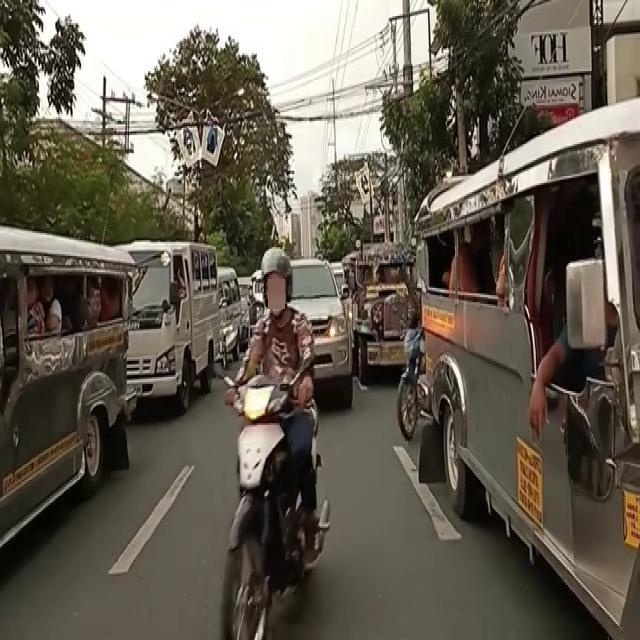car: (129, 247, 205, 406), (289, 256, 345, 412)
jeepney: (420, 140, 640, 620), (0, 239, 123, 541), (349, 255, 415, 388)
motorcycle: (227, 269, 317, 608)
